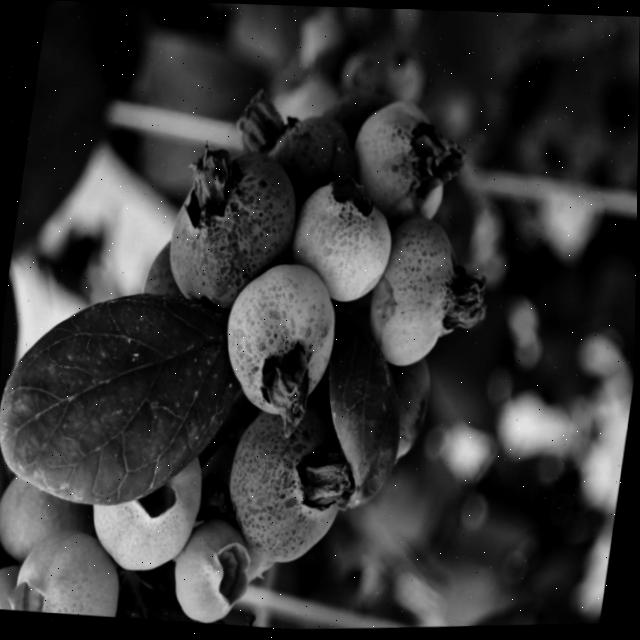RipeBlueBerry: (156, 140, 303, 326)
Semi-RipeBlueBerry: (217, 396, 363, 574)
UnripeBlueBerry: (212, 253, 347, 426), (86, 426, 213, 581), (364, 210, 479, 379), (284, 173, 398, 312)
